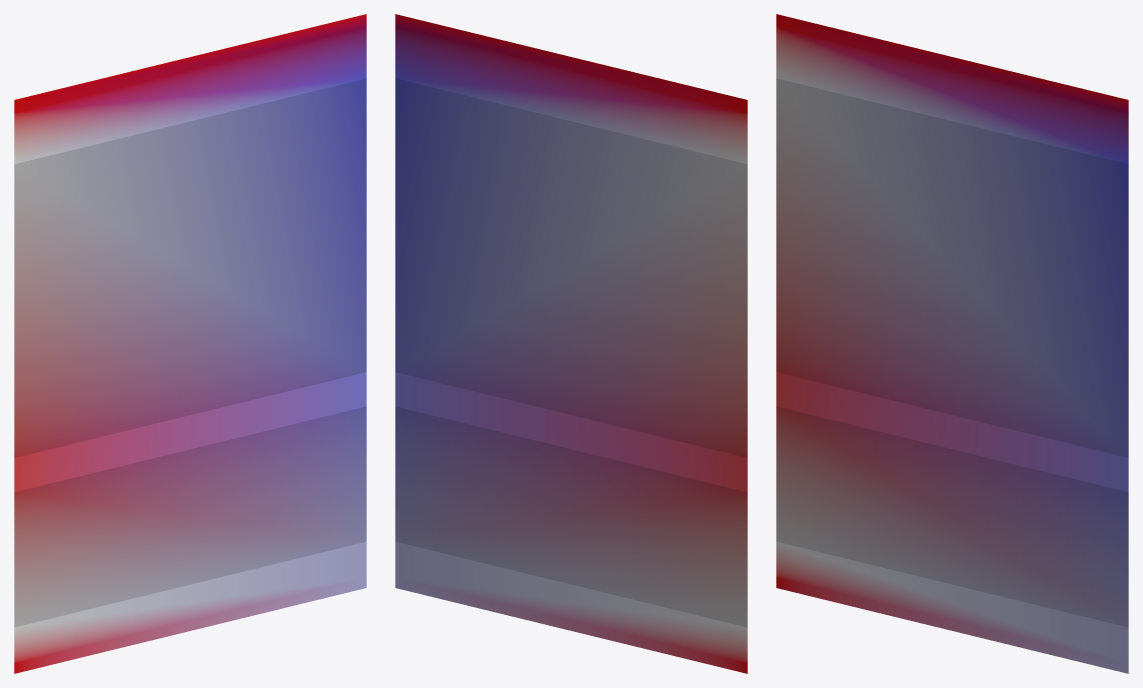
3 views of the same model, side by side, from view 1: azimuth 30°, elevation 25°; view 2: azimuth 150°, elevation 25°; view 3: azimuth 330°, elevation 25° (orthographic).
Visible parts, largest first — view 1: SM_Bathroom_Wall_01_LOD0; view 2: SM_Bathroom_Wall_01_LOD0; view 3: SM_Bathroom_Wall_01_LOD0.
Part boxes in pixels (x1=…): SM_Bathroom_Wall_01_LOD0: x1=14, y1=14, x2=366, y2=673; SM_Bathroom_Wall_01_LOD0: x1=395, y1=14, x2=747, y2=673; SM_Bathroom_Wall_01_LOD0: x1=776, y1=14, x2=1128, y2=673.
Bounding box in the file's own units: 225 × 2.68e-05 × 350.
